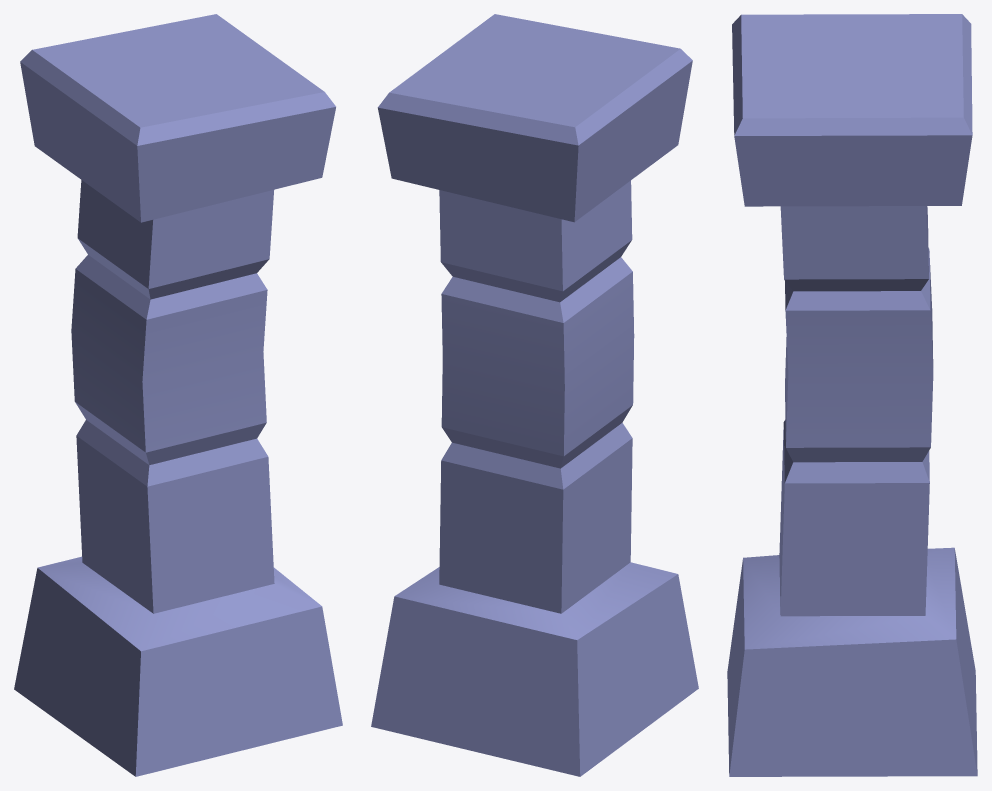
Rendered from Block.fbx.
The picture shows the model from 3 angles, left to right: view 1: azimuth 30°, elevation 25°; view 2: azimuth 150°, elevation 25°; view 3: azimuth 270°, elevation 25°; orthographic projection. The views are drawn at different scales.
Parts seen in each view (by area): view 1: Cube; view 2: Cube; view 3: Cube.
Part boxes in pixels (x1,y1,x2,y2): Cube: (14, 14, 342, 776); Cube: (371, 14, 698, 776); Cube: (727, 14, 977, 776).
Size of the model in its own units: 92.19 by 270 by 92.19.
